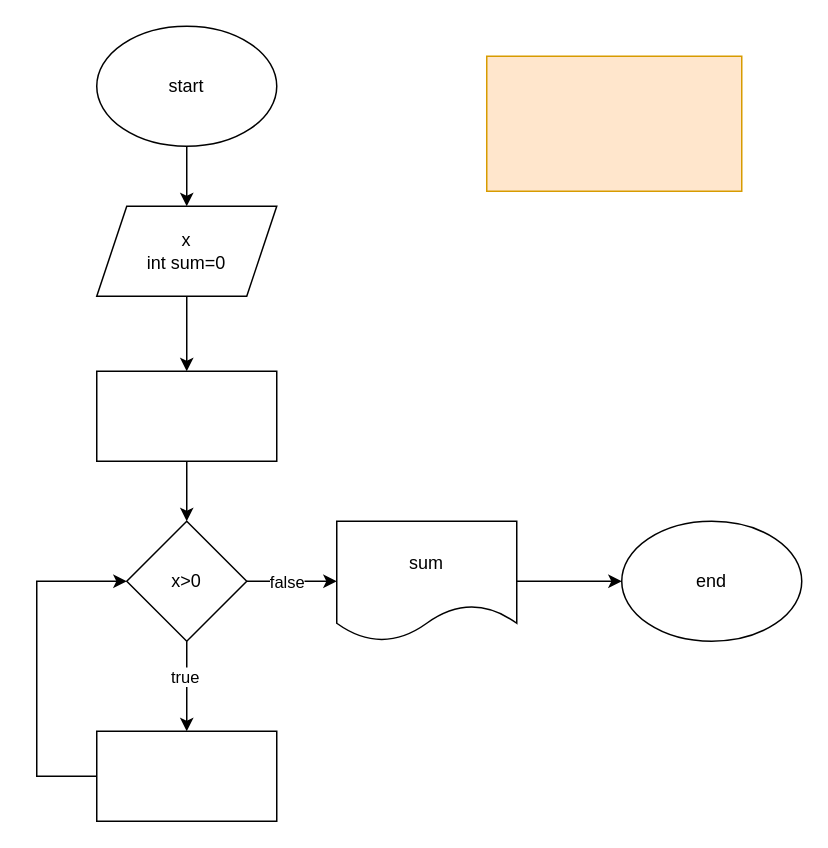
This 828x848 diagram has some shape labels left out. Each missing label, with the box of its shape:
sum+=x%10 x/=10: (95, 730, 277, 821)
Verilmiş 6 reqemli ededin ilk 3 denesinin reqemleri cemini tapın: (485, 55, 742, 191)
x/1000: (95, 370, 277, 461)
